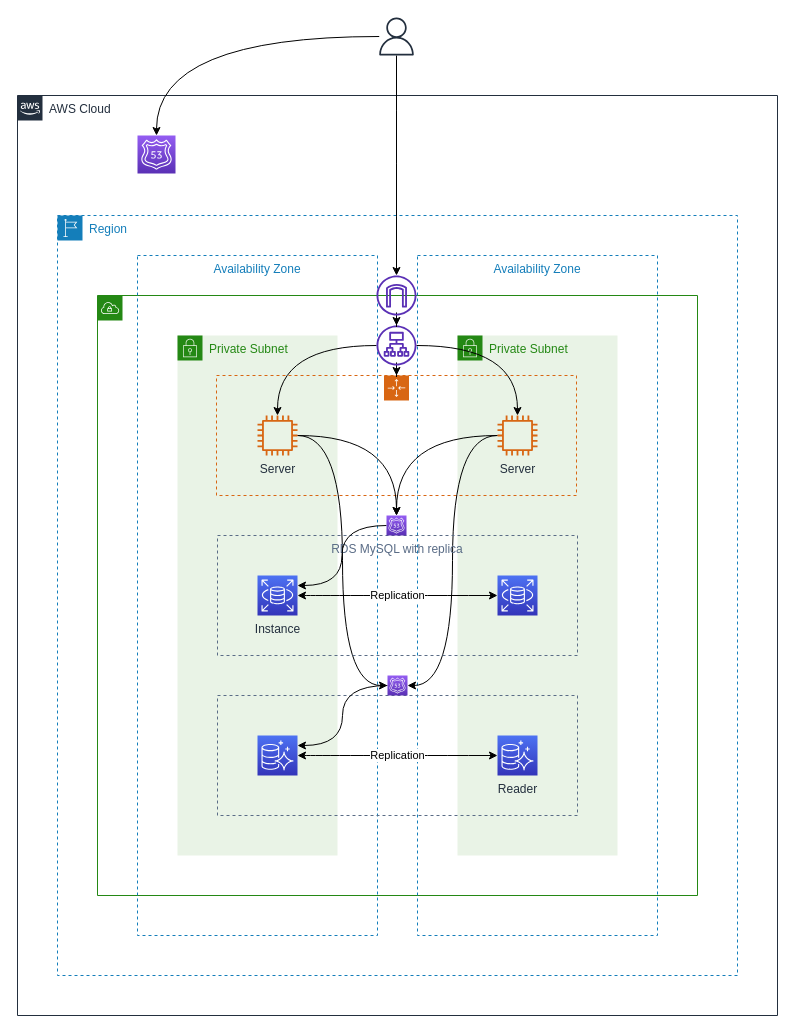
The diagram is 795 pixels wide and 1033 high, and some of its shapes have lost their labels. The shapes that lost their labels are listed below. From the top down, each one's box as (x1, y1, x2, y2) in pixels, then its label:
(216, 374, 576, 496): Auto Scaling group
(96, 294, 698, 896): VPC
(496, 574, 538, 616): Replica
(256, 734, 298, 776): Writer
(216, 694, 578, 816): Aurora MySQL cluster
